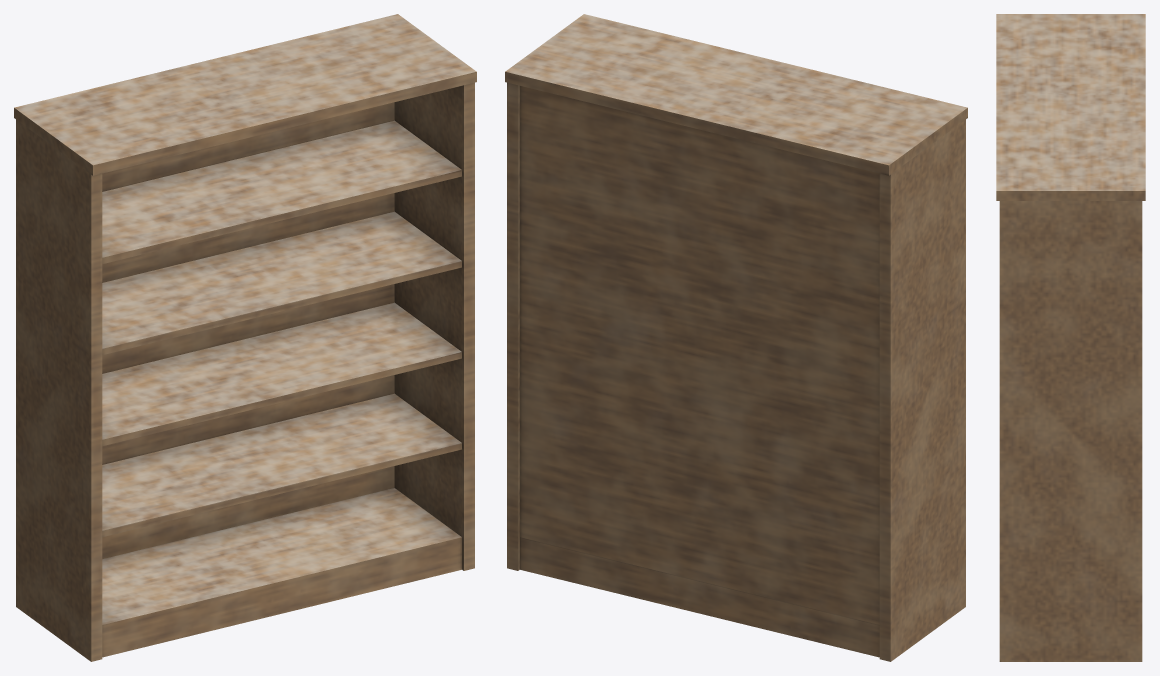
The model's file is bookshelf_empty.fbx.
3 views of the same model, side by side, from view 1: azimuth 30°, elevation 25°; view 2: azimuth 150°, elevation 25°; view 3: azimuth 270°, elevation 25° (orthographic). The views are drawn at different scales.
Parts seen in each view (by area): view 1: Body; view 2: Body; view 3: Body.
Part boxes in pixels (bbox=[...]): Body: bbox=[14, 14, 476, 661]; Body: bbox=[505, 14, 967, 661]; Body: bbox=[996, 14, 1145, 661].
Bounding box in the file's own units: 6.18 × 7.66 × 2.2.
Materials: 1 (1 with a texture image).
